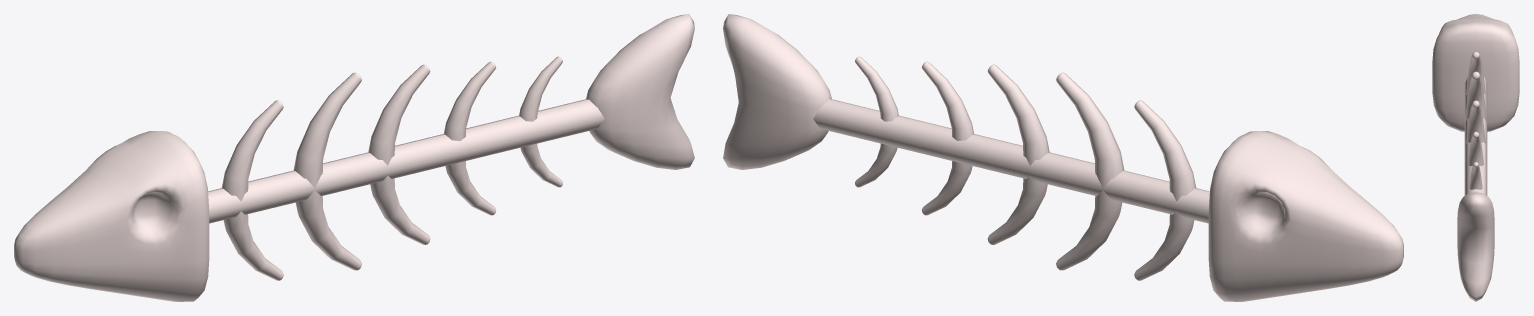
File: Skeleton_Fish_2.fbx
The picture shows the model from 3 angles, left to right: view 1: azimuth 30°, elevation 25°; view 2: azimuth 150°, elevation 25°; view 3: azimuth 270°, elevation 25°; orthographic projection. The views are drawn at different scales.
Visible parts, largest first — view 1: Skeleton_Fish_2; view 2: Skeleton_Fish_2; view 3: Skeleton_Fish_2.
Boxes of the visible parts, x1,y1,x2,y2 form: Skeleton_Fish_2: [14, 14, 694, 301]; Skeleton_Fish_2: [723, 14, 1403, 301]; Skeleton_Fish_2: [1432, 14, 1519, 301].
Bounding box in the file's own units: 69.47 × 19.28 × 11.38.
